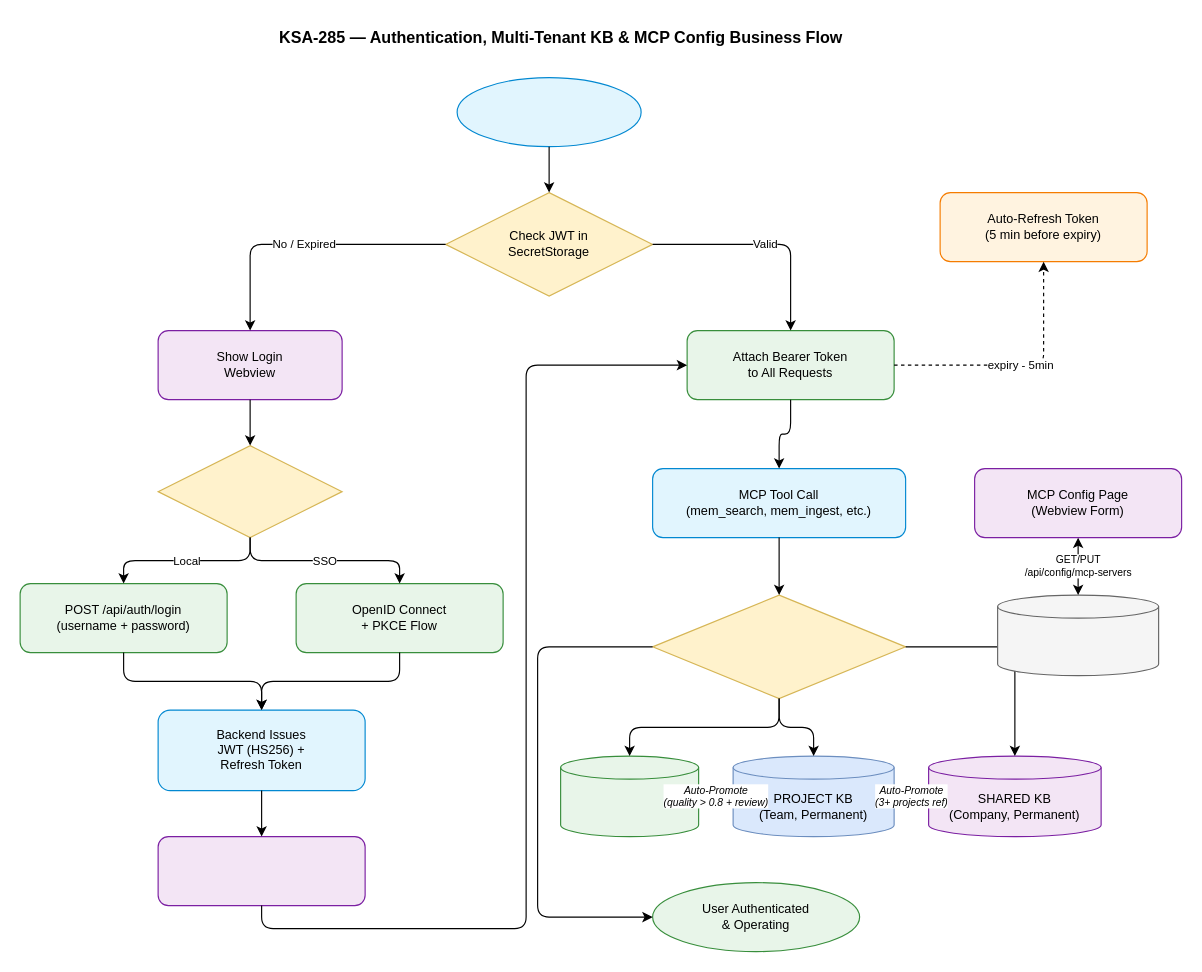
Image size: 1202x972. Some labels were removed from this diagram. The shapes that lost their labels are listed below. From the top down, each one's centre as x and y in pixels, then its label:
At pixel 548 111: "Extension Activates".
At pixel 249 491: "Auth Method?".
At pixel 778 646: "Backend Resolves KB Tier from JWT".
At pixel 1077 635: "Per-User Config (Encrypted in DB)".
At pixel 629 796: "USER KB (Personal, TTL)".
At pixel 261 870: "Store in VS Code SecretStorage".
